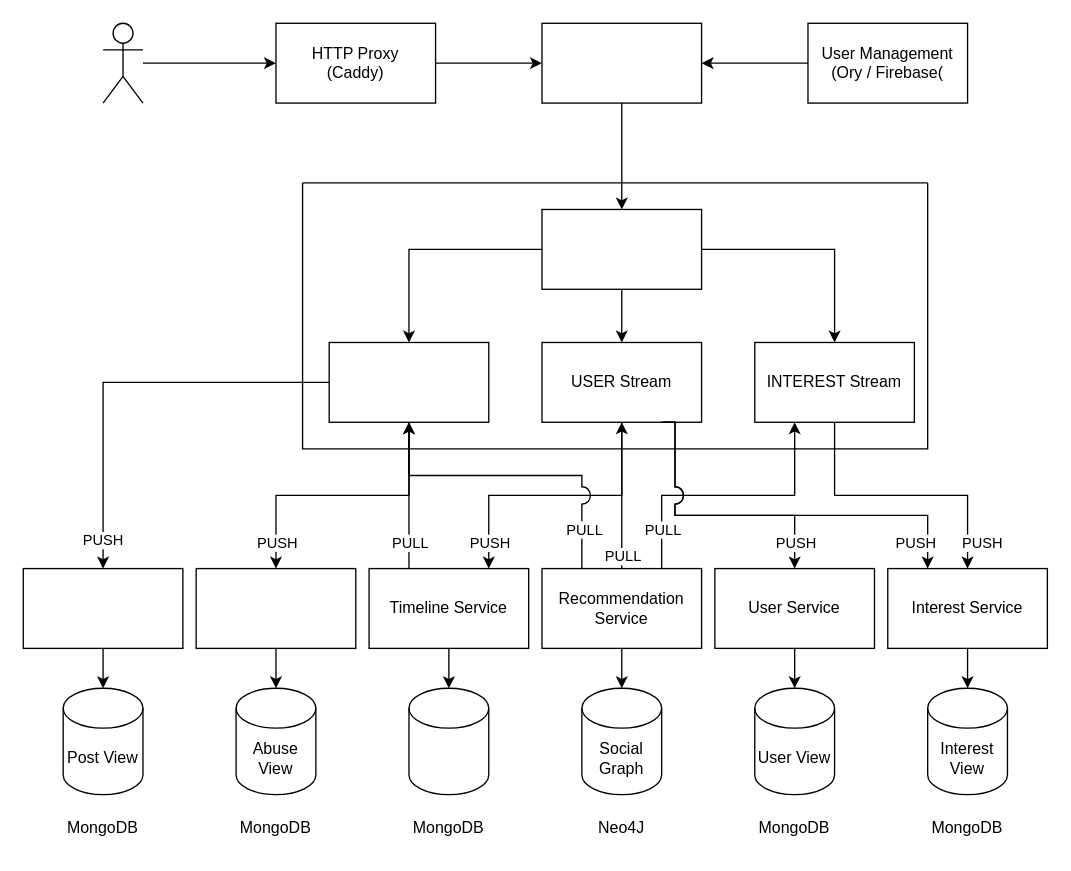
This 1071x871 diagram has some shape labels left out. The shapes that lost their labels are listed below. From the top down, each one's centre as x and y in pixels, then its label:
At point 122,62: "Client".
At point 621,62: "API Gateway (KrakenD)".
At point 621,248: "Message Broker / Event Store (NATS)".
At point 408,381: "POST Stream".
At point 102,607: "Post Service".
At point 275,607: "Abuse Service".
At point 448,741: "Timeline View".
